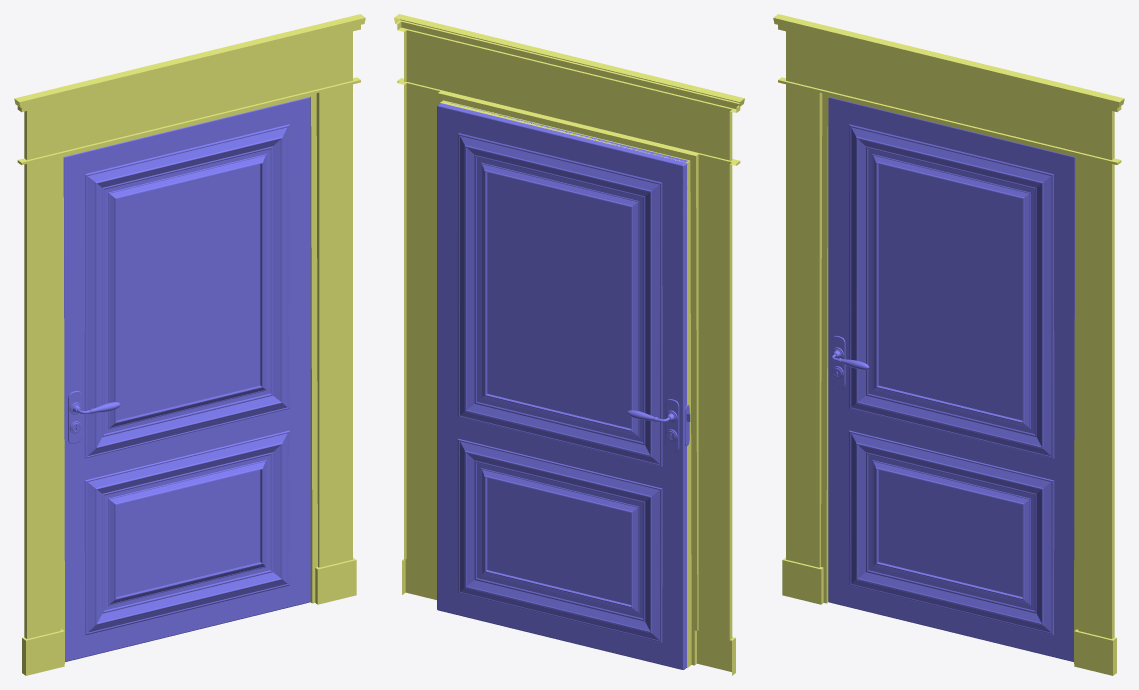
The model's file is SM_Door_Double_Sided_New.fbx.
3 views of the same model, side by side, from view 1: azimuth 30°, elevation 25°; view 2: azimuth 150°, elevation 25°; view 3: azimuth 330°, elevation 25° (orthographic).
Parts seen in each view (by area): view 1: Door, Door_Frame; view 2: Door, Door_Frame; view 3: Door, Door_Frame.
Boxes of the visible parts, x1,y1,x2,y2 form: Door: (63,97,310,661); Door_Frame: (14,14,365,675); Door: (437,101,690,669); Door_Frame: (394,14,744,675); Door: (828,97,1075,661); Door_Frame: (773,14,1124,675).
Bounding box in the file's own units: 134 × 214 × 17.61.
